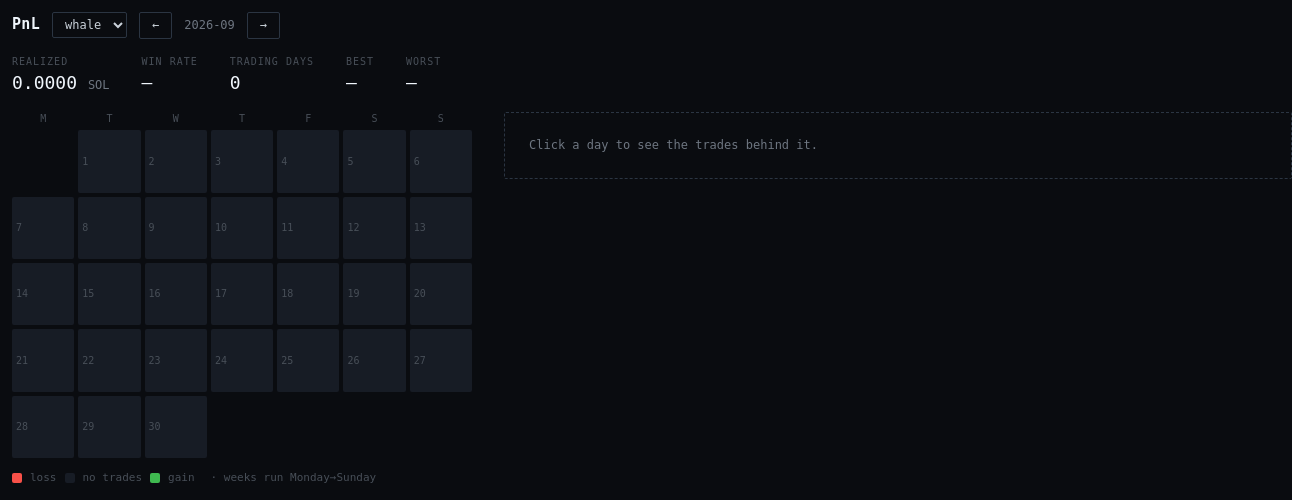
it: PnlTab › says so when a clicked day has no trades
Click the button "3".
click(242, 162)  # box [211,130,273,193]
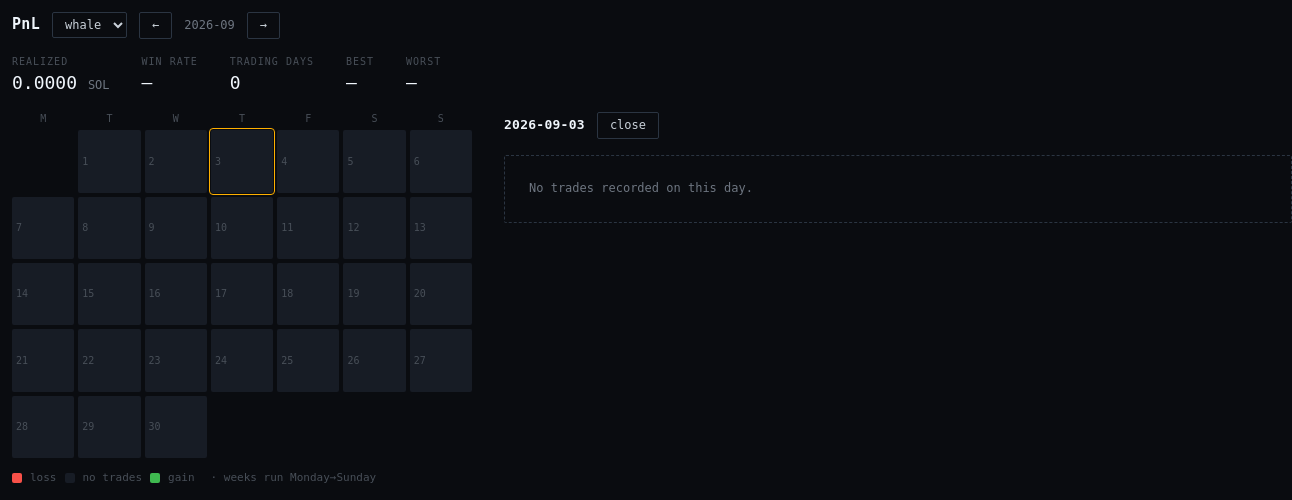
Check: the text "No trades recorded on this day." is shown, box [504,155,1291,223]
